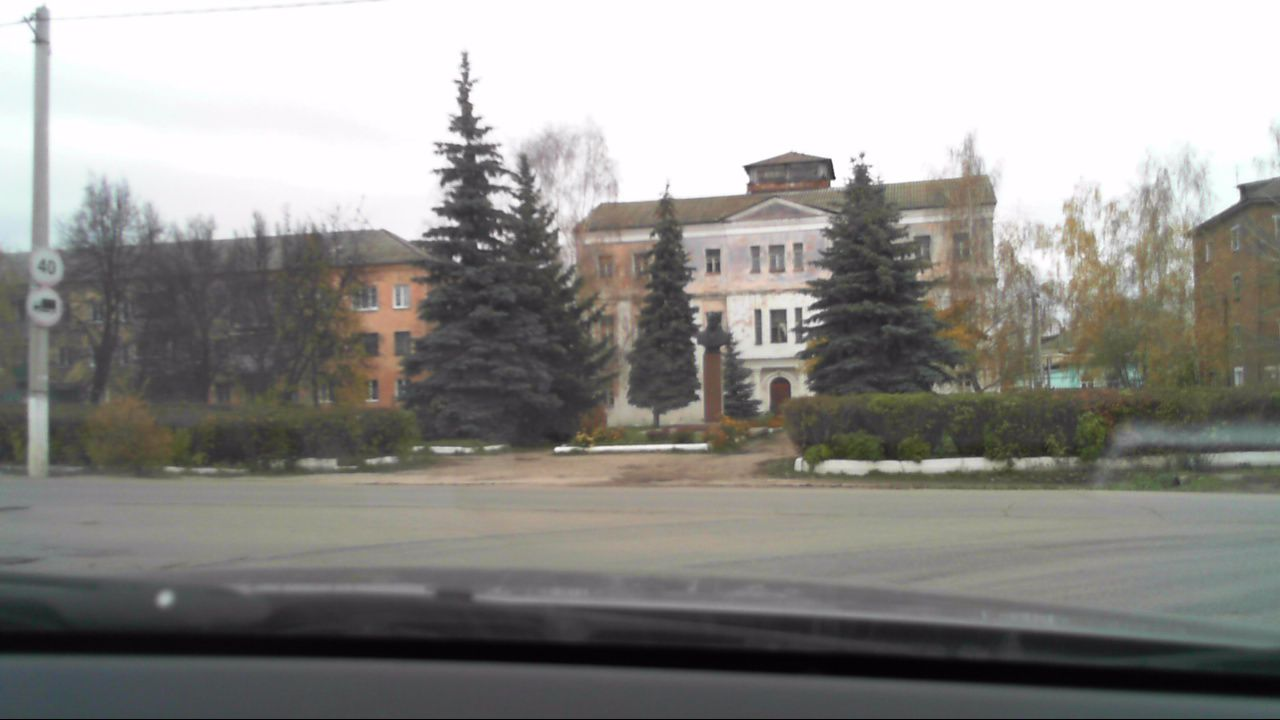speed_warning_40: (29, 247, 63, 287)
